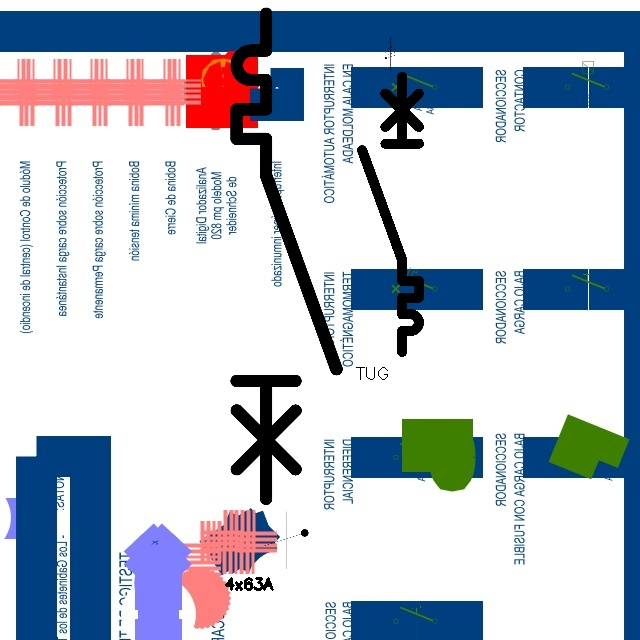interruptor_termomagnetico: (224, 1, 349, 512), (355, 69, 426, 359)
